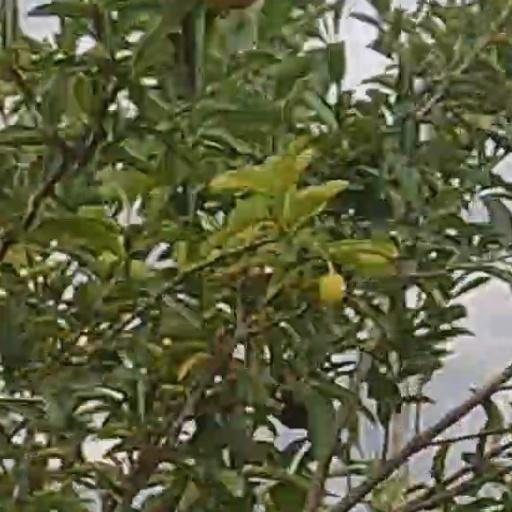acerola: (320, 277, 344, 301)
